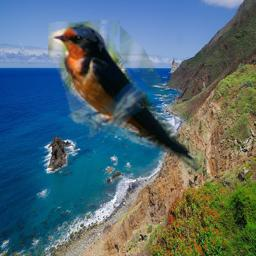Swallow: (48, 20, 207, 175)
